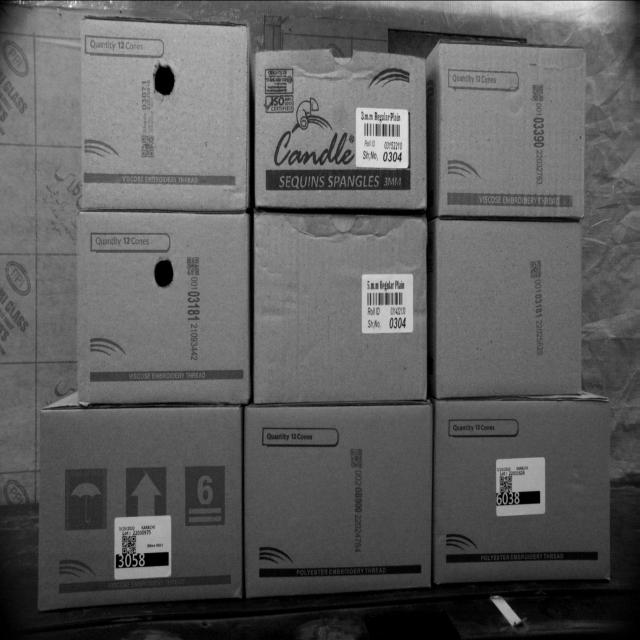cardboxes: (38, 406, 244, 609), (247, 406, 431, 597), (250, 212, 429, 401), (78, 214, 251, 401), (85, 14, 252, 206), (434, 401, 609, 583), (251, 50, 430, 214), (434, 42, 586, 220), (436, 214, 585, 393)
